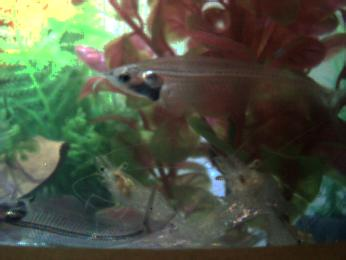glassfish: (94, 55, 346, 112), (1, 200, 157, 248)
siberian prawn: (93, 153, 212, 247), (216, 151, 306, 245)
